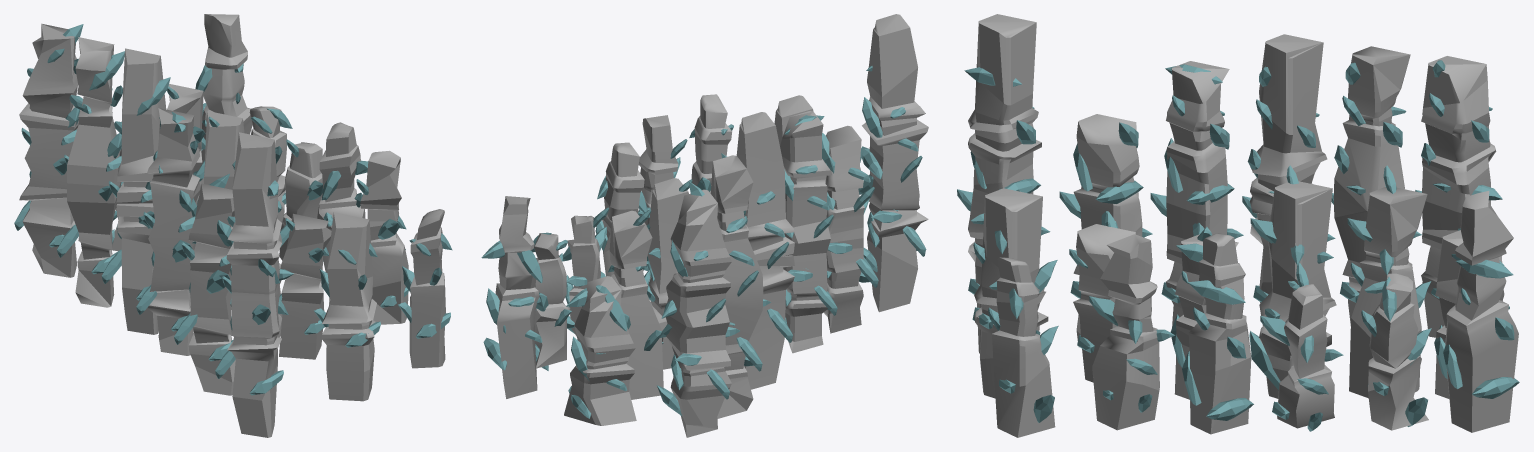
The model's file is PilaresBaseCristales.fbx.
The picture shows the model from 3 angles, left to right: view 1: azimuth 30°, elevation 25°; view 2: azimuth 150°, elevation 25°; view 3: azimuth 270°, elevation 25°; orthographic projection. The views are drawn at different scales.
Parts seen in each view (by area): view 1: pCube21, pCube16, pCube17, pCube18, pCube19, pCube5, pCube20, pCube4, pCube8, pCube3, polySurface2, pCube7 (+18 smaller); view 2: pCube21, pCube16, pCube18, pCube19, pCube17, pCube10, polySurface2, pCube20, pCube11, pCube9, polySurface3, pCube7 (+16 smaller); view 3: polySurface2, pCube16, pCube21, pCube18, pCube8, pCube19, pCube17, pCube7, pCube9, pCube3, pCube11, pCube5 (+22 smaller).
Boxes of the visible parts, box(x1,y1,x2,y2) form: pCube21: box(226, 132, 281, 437); pCube16: box(19, 23, 80, 277); pCube17: box(67, 37, 121, 307); pCube18: box(116, 48, 166, 334); pCube19: box(147, 108, 200, 355); pCube5: box(321, 212, 376, 401); pCube20: box(188, 183, 235, 395); pCube4: box(279, 213, 331, 359); pCube8: box(360, 150, 408, 324); pCube3: box(409, 209, 445, 368); polySurface2: box(201, 14, 252, 163); pCube7: box(317, 122, 365, 272); pCube21: box(862, 14, 928, 312); pCube16: box(666, 189, 731, 437); pCube18: box(736, 112, 794, 389); pCube19: box(780, 111, 832, 353); pCube17: box(710, 155, 763, 418); pCube10: box(564, 276, 636, 425); polySurface2: box(495, 196, 539, 398); pCube20: box(823, 125, 864, 333); pCube11: box(609, 210, 663, 399); pCube9: box(647, 178, 688, 369); polySurface3: box(534, 233, 570, 368); pCube7: box(602, 142, 644, 276); polySurface2: box(1445, 191, 1518, 432); pCube16: box(1421, 56, 1496, 337); pCube21: box(968, 14, 1041, 353); pCube18: box(1250, 34, 1327, 325); pCube8: box(1092, 234, 1159, 430); pCube19: box(1166, 61, 1229, 327); pCube17: box(1333, 46, 1410, 325); pCube7: box(1188, 233, 1251, 434); pCube9: box(1259, 181, 1336, 398); pCube3: box(991, 257, 1055, 437); pCube11: box(1349, 187, 1427, 398); pCube5: box(974, 188, 1048, 398).
Size of the model in its own units: 225 by 241 by 372.
